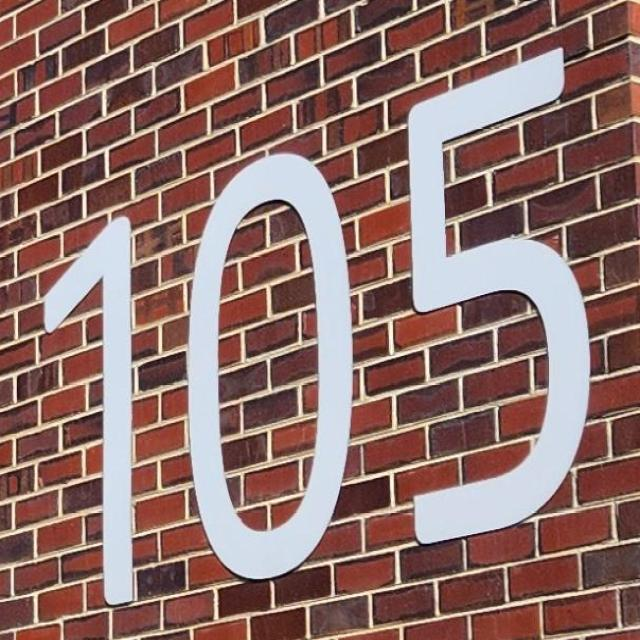character: (400, 43, 598, 550), (182, 146, 358, 590), (39, 210, 140, 610)
